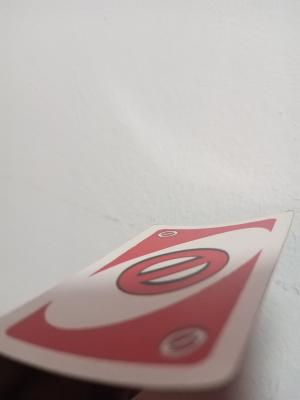skip: (112, 241, 234, 301)
